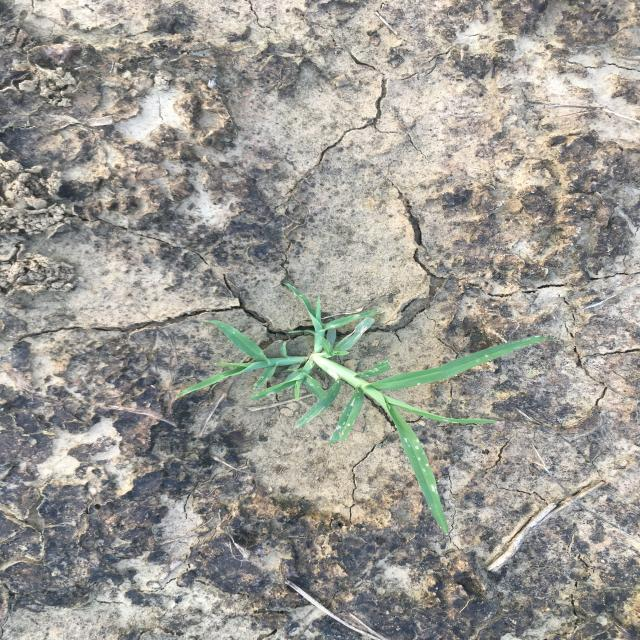Goosegrass: (168, 281, 556, 539)
